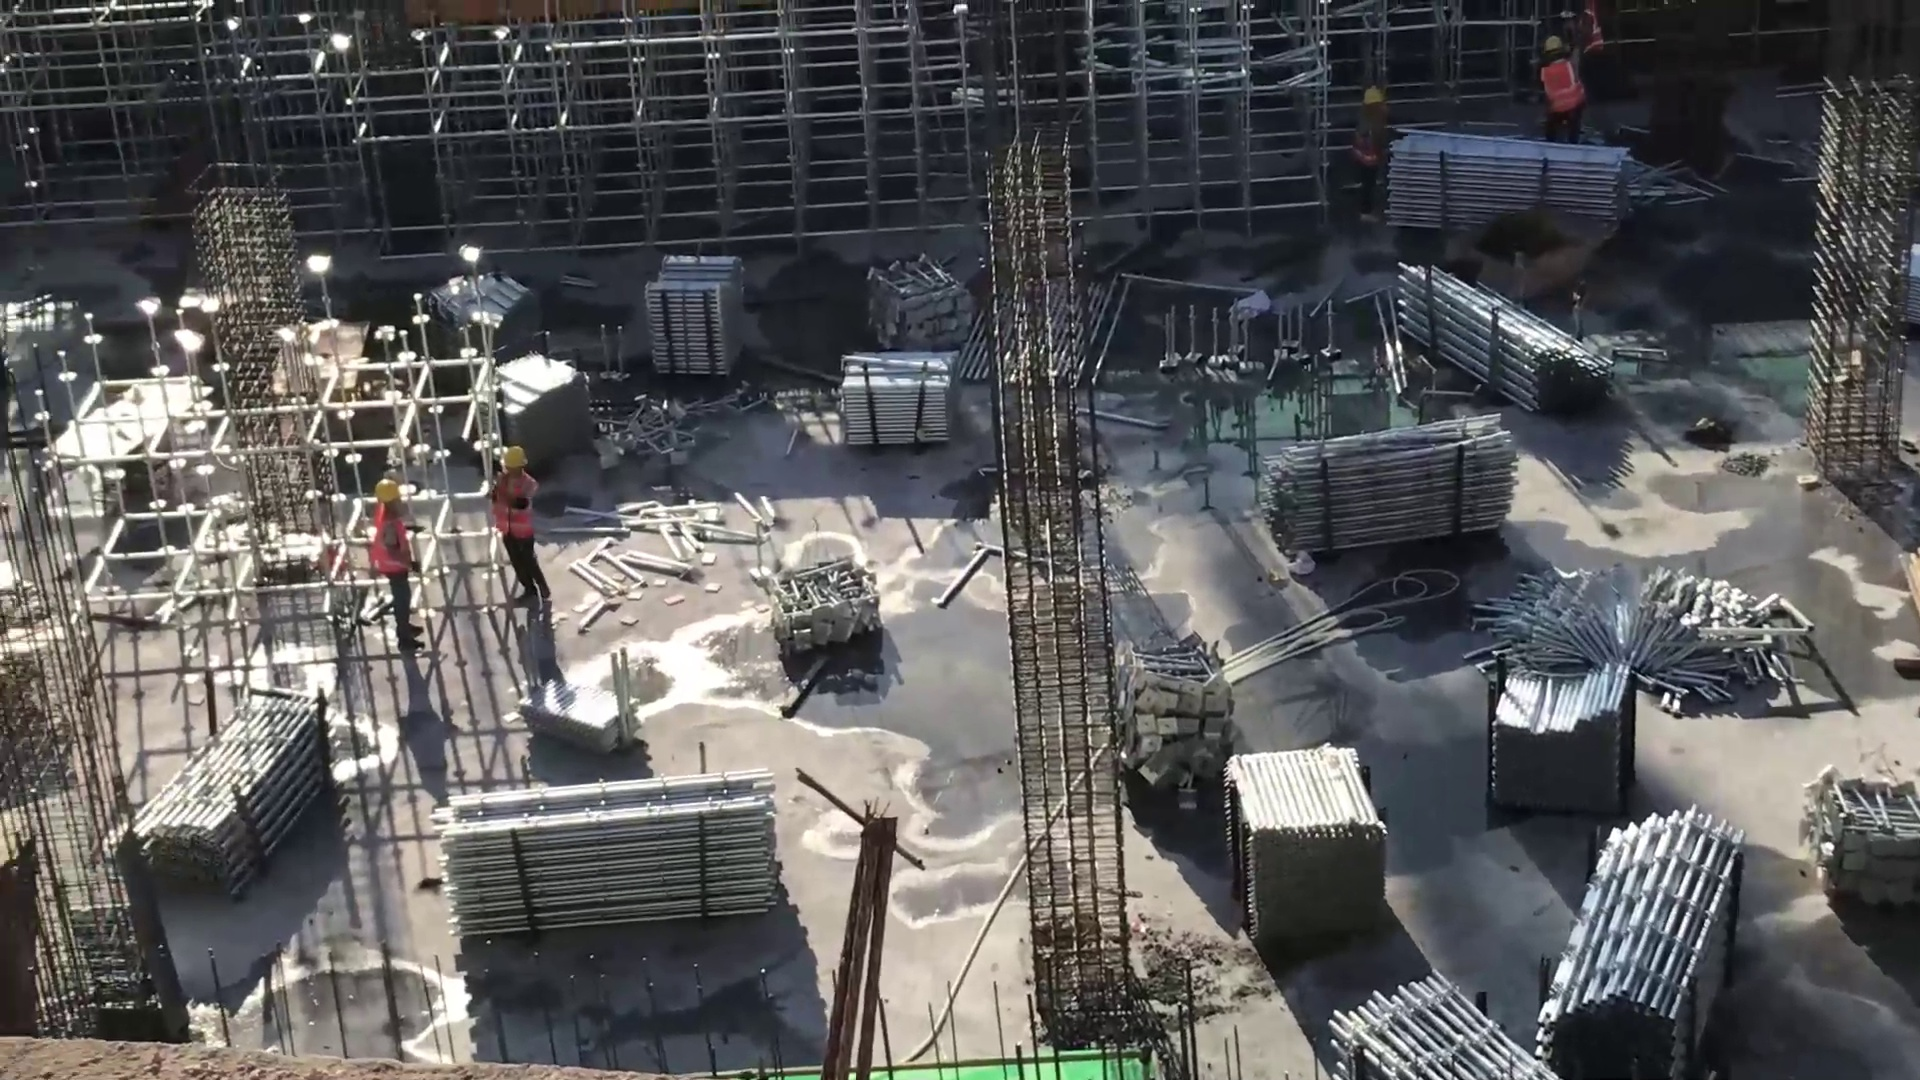helmet: (505, 443, 527, 464), (377, 485, 393, 504)
person: (358, 474, 443, 638), (493, 443, 566, 611), (1535, 31, 1592, 138), (1354, 85, 1396, 207)
scaffold: (1537, 807, 1739, 1080), (438, 774, 785, 914), (125, 697, 336, 895), (1271, 410, 1512, 555), (1225, 747, 1388, 938), (1398, 251, 1606, 399), (1389, 128, 1631, 236), (1325, 968, 1527, 1077), (1489, 660, 1633, 810), (839, 343, 963, 458), (650, 258, 747, 388)
vest: (372, 517, 413, 579), (498, 477, 538, 539)
